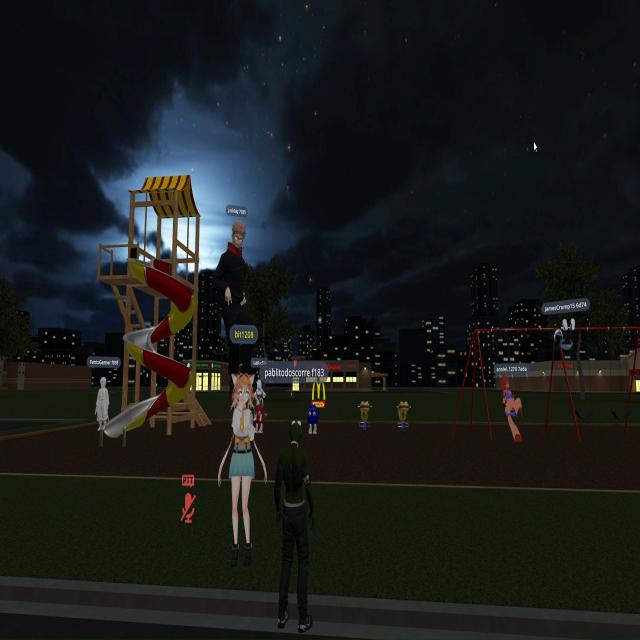slider: (99, 148, 215, 452)
